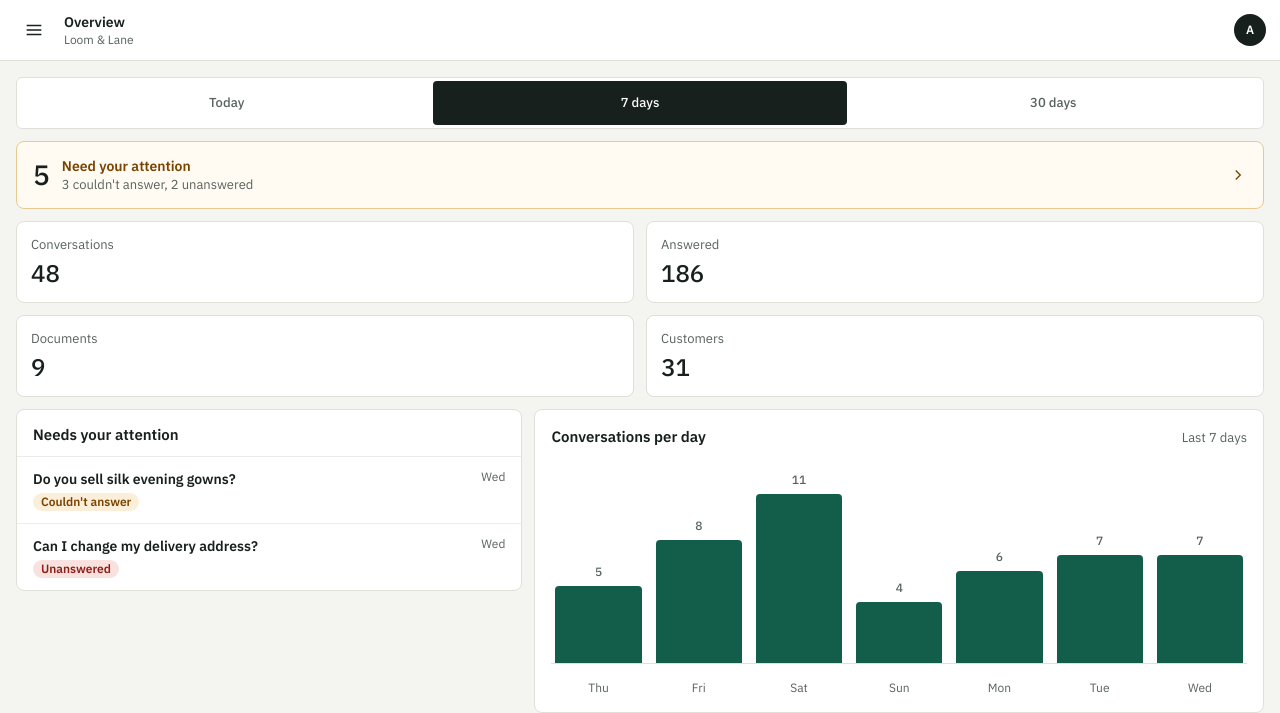
Test case: on a phone › Escape closes the menu and returns focus to its button
Click the button named "Open menu" at (34, 30), box [12,8,56,52]
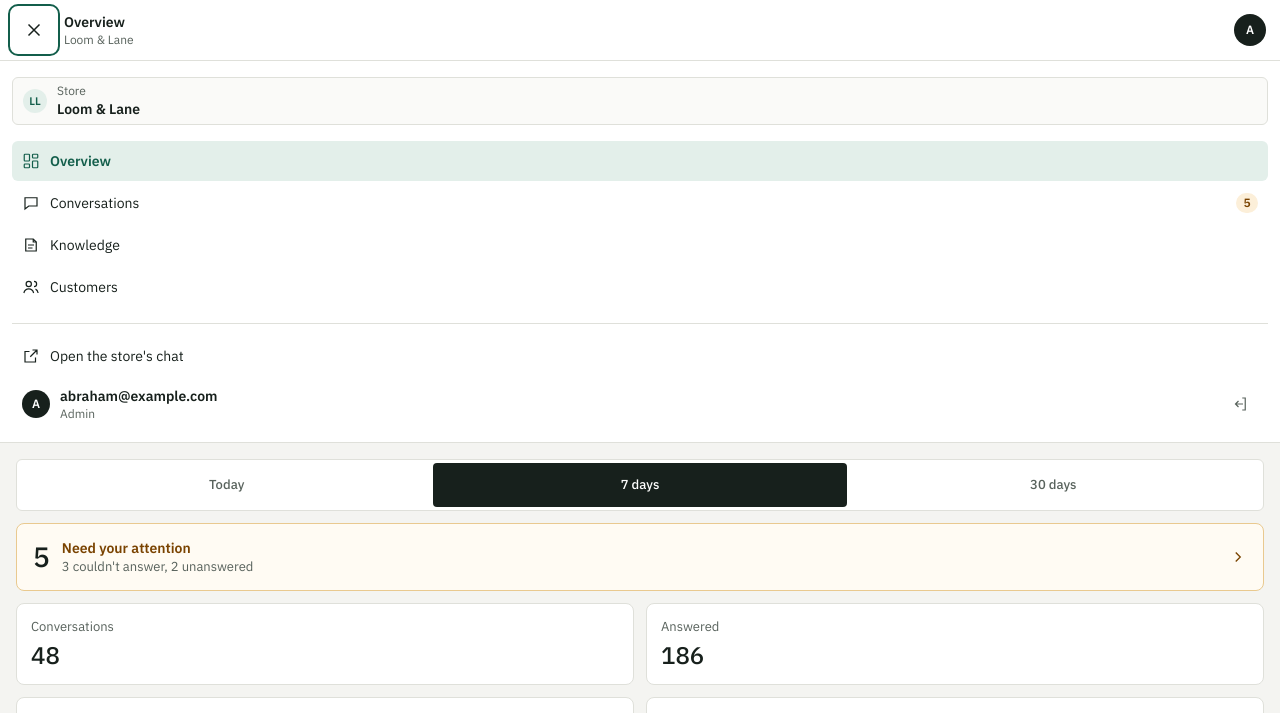
Press Escape
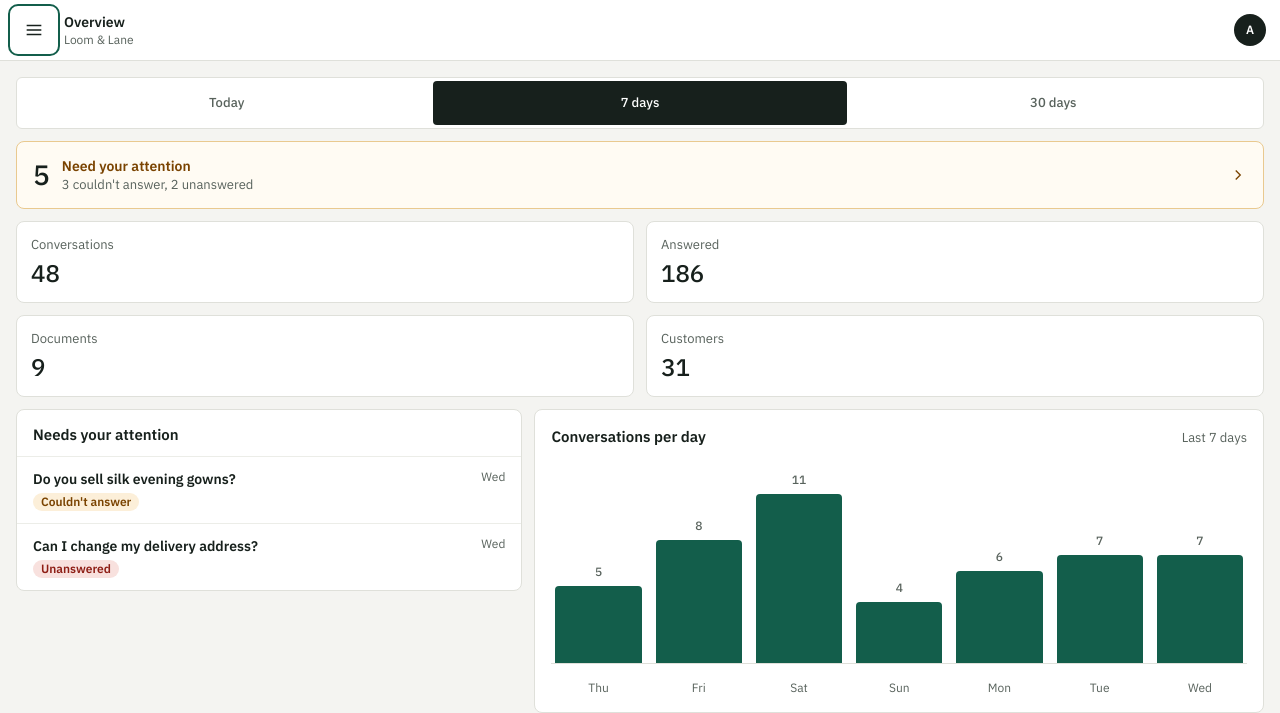
Now the text "Admin" is gone
